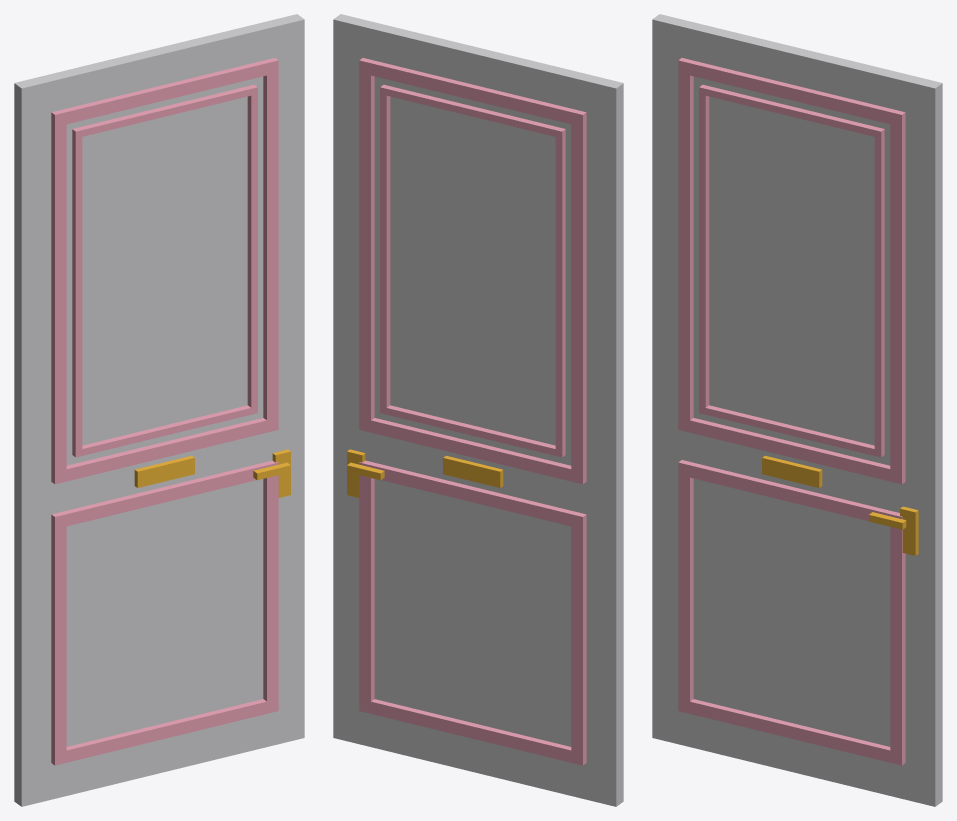
The model's file is SM_Door_girls_110x265.fbx.
3 renders of one model, left to right at view 1: azimuth 30°, elevation 25°; view 2: azimuth 150°, elevation 25°; view 3: azimuth 330°, elevation 25°, orthographic.
Visible parts, largest first — view 1: SM_Door_girls_110x265; view 2: SM_Door_girls_110x265; view 3: SM_Door_girls_110x265.
Boxes of the visible parts, x1=… form: SM_Door_girls_110x265: x1=14, y1=14, x2=304, y2=806; SM_Door_girls_110x265: x1=333, y1=14, x2=623, y2=806; SM_Door_girls_110x265: x1=652, y1=14, x2=942, y2=806.
Size of the model in its own units: 1.09 by 2.64 by 0.175.
